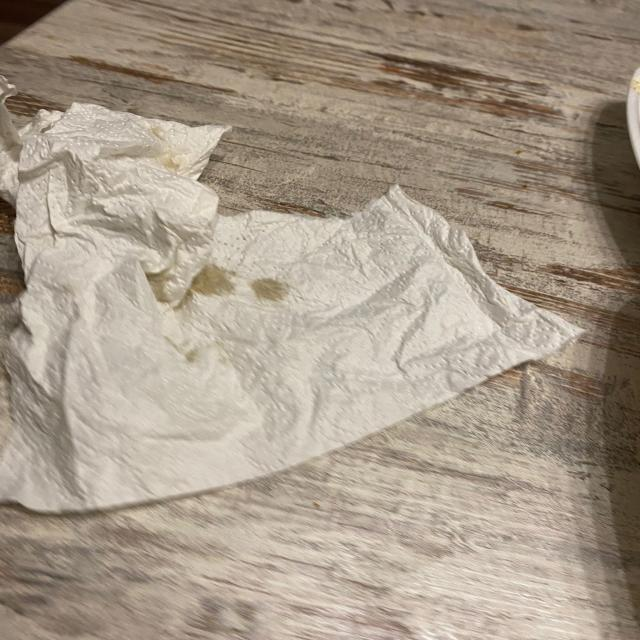kitchen paper: (0, 67, 598, 517)
